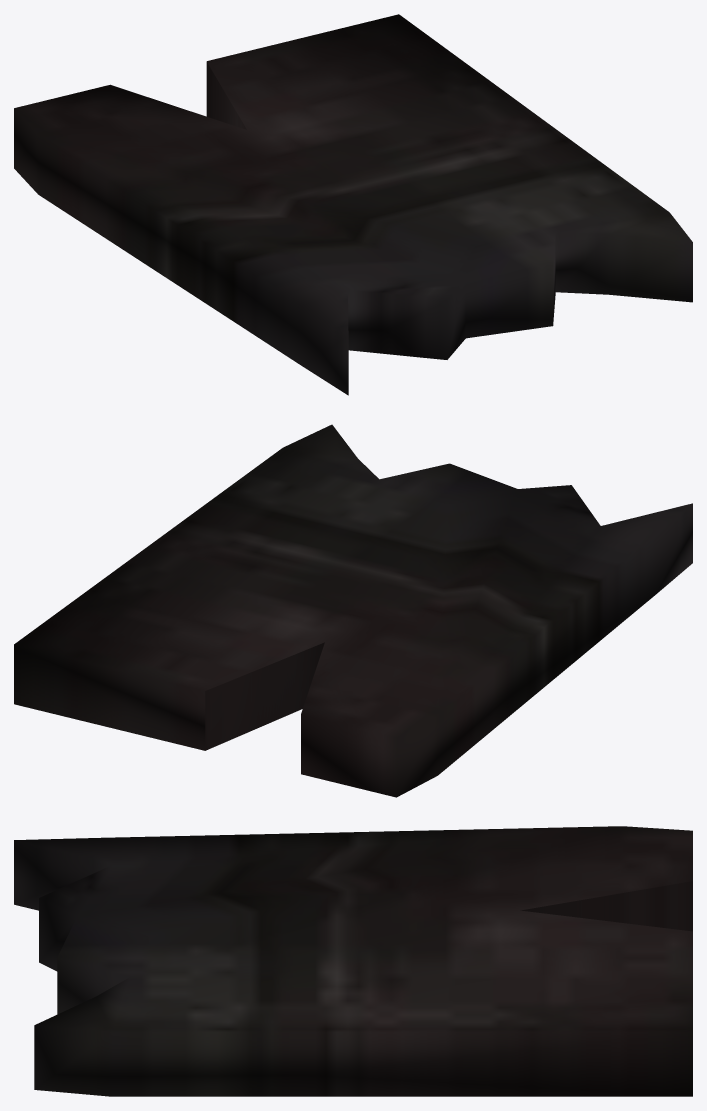
File: gatepart2.glb
3 views of the same model, one above another, from view 1: azimuth 30°, elevation 25°; view 2: azimuth 150°, elevation 25°; view 3: azimuth 270°, elevation 25° (orthographic). The views are drawn at different scales.
Visible parts, largest first — view 1: model_gatepart2; view 2: model_gatepart2; view 3: model_gatepart2.
Boxes of the visible parts, left/top/right/bottom form: model_gatepart2: left=14, top=14, right=692, bottom=395; model_gatepart2: left=14, top=424, right=692, bottom=797; model_gatepart2: left=14, top=826, right=692, bottom=1096.
Size of the model in its own units: 0.8195 by 0.1197 by 1.14.
Materials: 1 (1 with a texture image).
